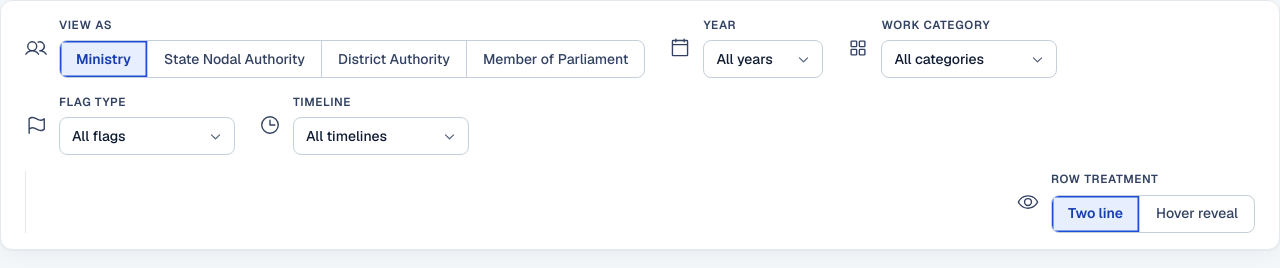
Scenario: FilterPanel: the 'View as' role lens (T6) › shows the multi StateSelect only under the State Nodal Authority lens
Click the radio button labelled "State Nodal Authority" at coordinates (234, 59), box [147,41,321,77]
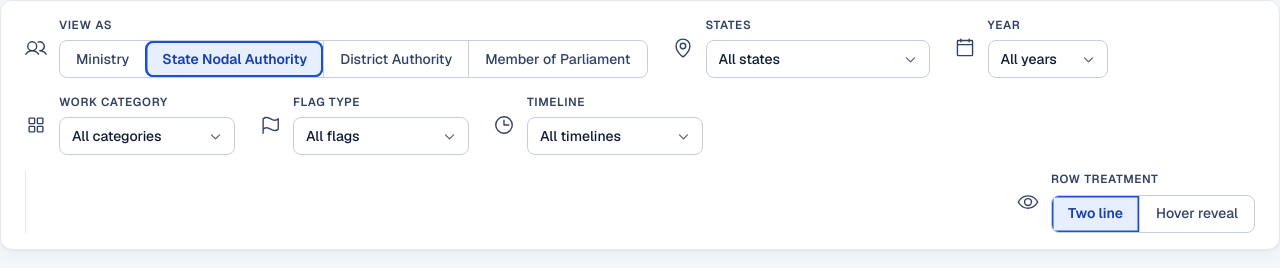
Result: the button "All states" is shown at [706,40,930,78]
